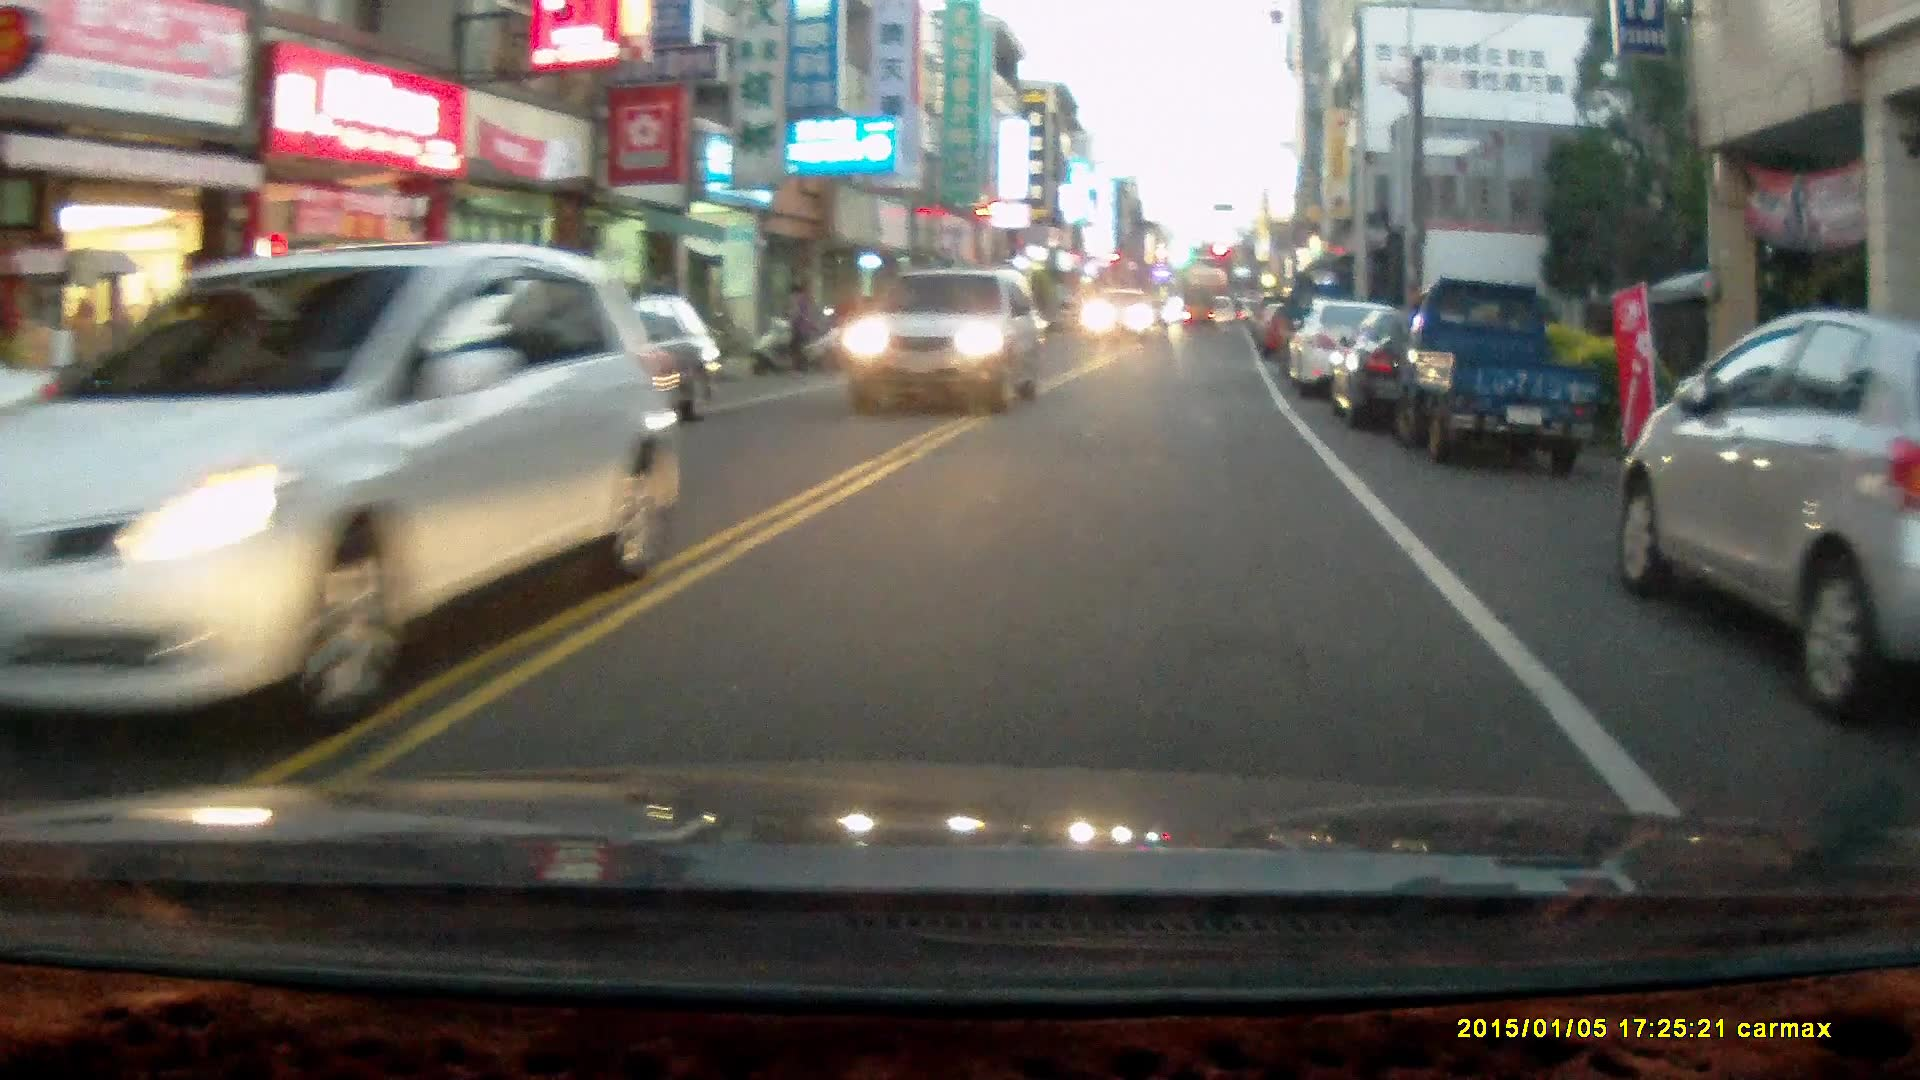pedestrian: (788, 285, 815, 377)
vehicle: (9, 245, 679, 760), (1607, 312, 1920, 709), (1392, 277, 1611, 478), (463, 297, 717, 449), (836, 271, 1046, 420), (1328, 299, 1529, 435), (1282, 296, 1436, 404), (1085, 288, 1164, 349)
